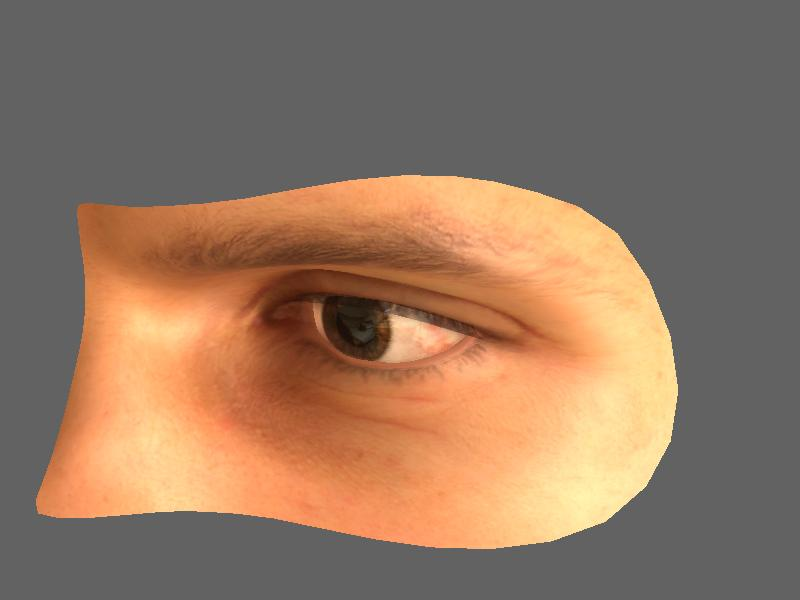iris: (318, 295, 396, 362)
